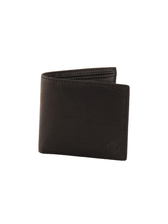other: (33, 66, 137, 165)
